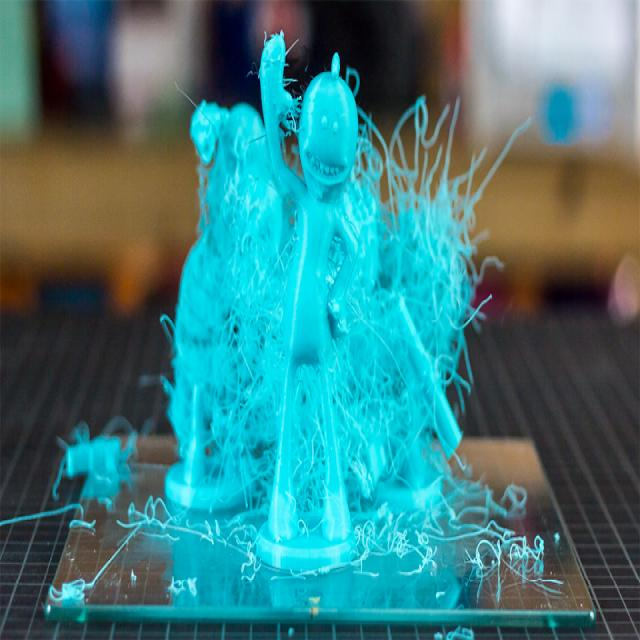spaghetti: (392, 145, 502, 366), (223, 208, 293, 412), (244, 370, 327, 511), (328, 353, 406, 497)
